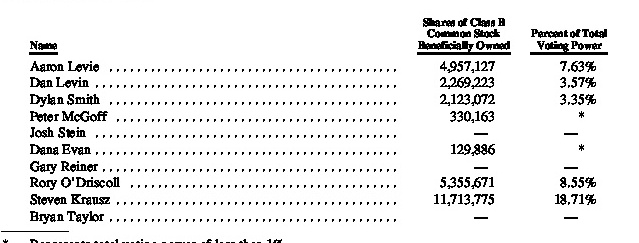table: (0, 0, 639, 243)
